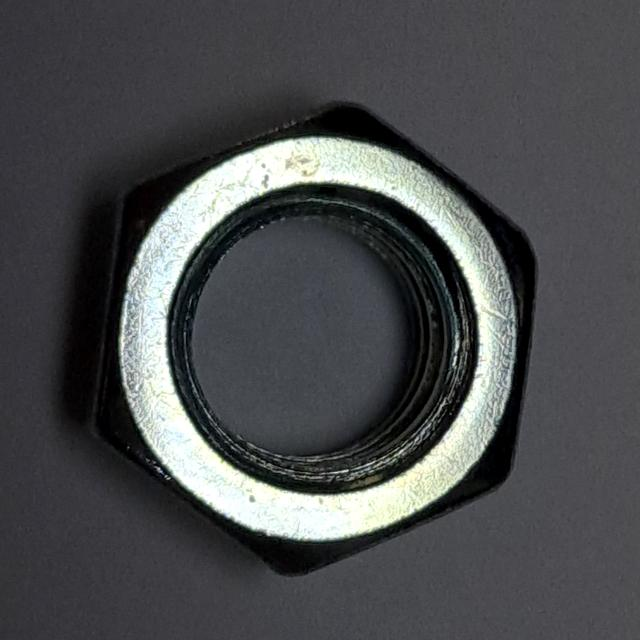Excellent: (70, 83, 550, 598)
